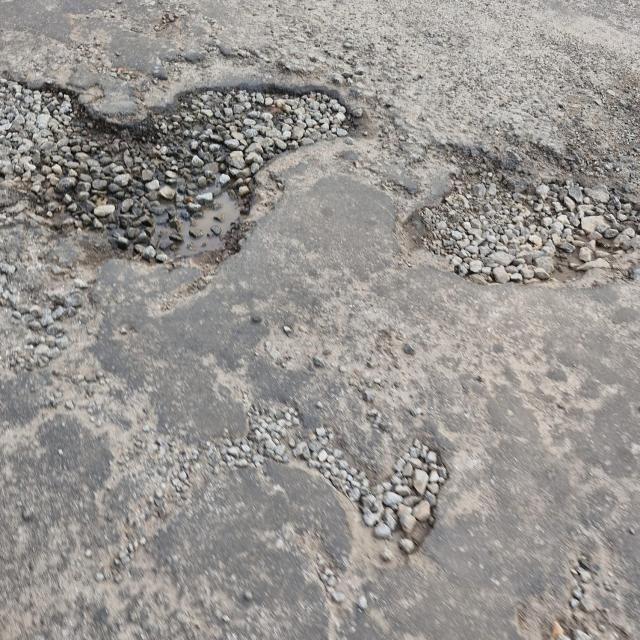pothole: (5, 47, 362, 270), (392, 117, 638, 306), (247, 381, 478, 565), (0, 252, 164, 494), (152, 411, 282, 508), (519, 542, 640, 640), (78, 523, 158, 594), (358, 110, 419, 199)
